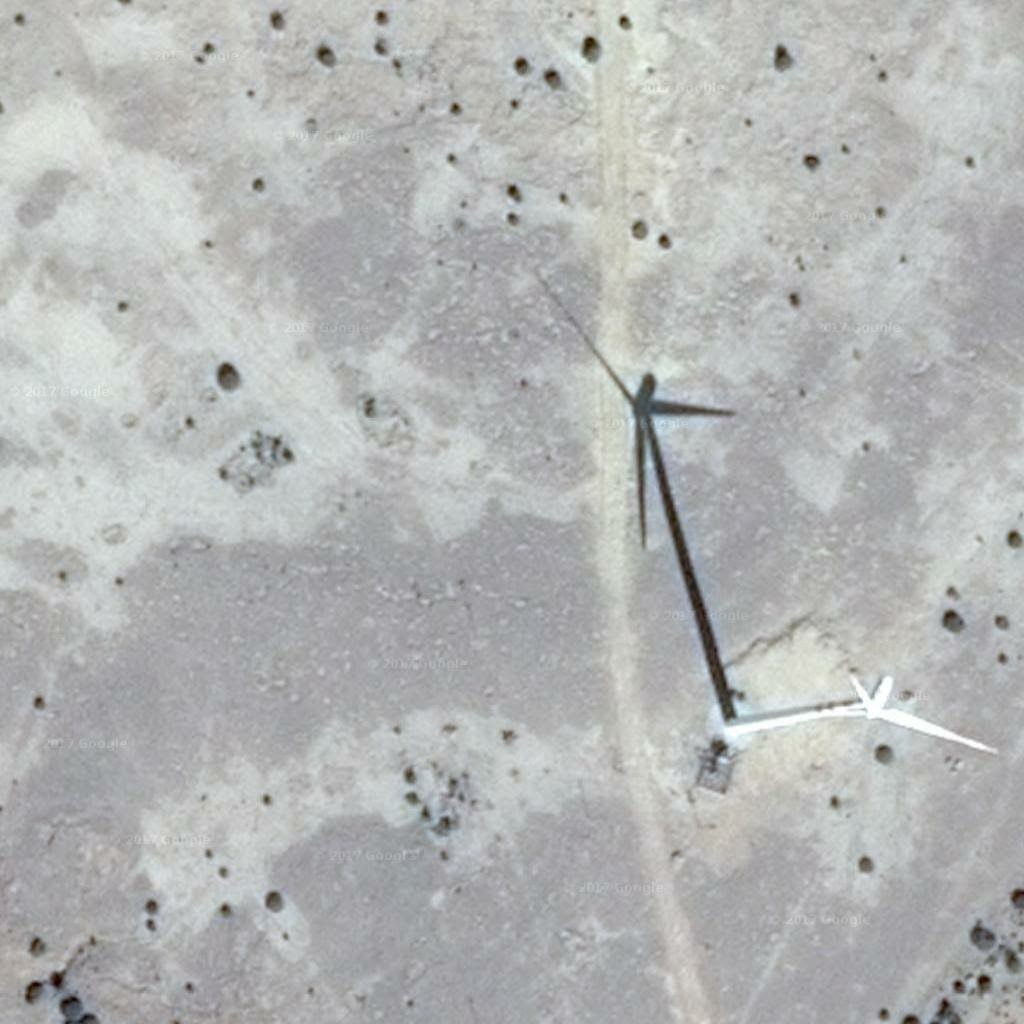Windmill: (531, 270, 749, 715)
